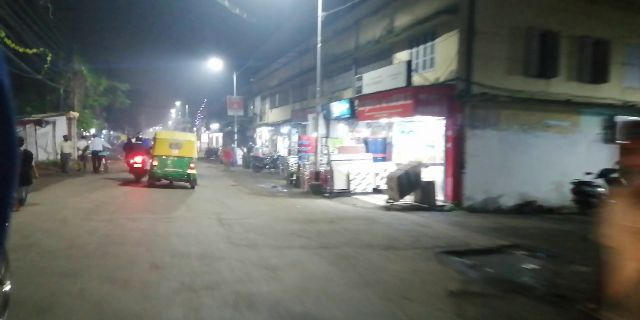Autorickshaw: (150, 128, 202, 193)
Motorbike: (126, 132, 149, 187)
